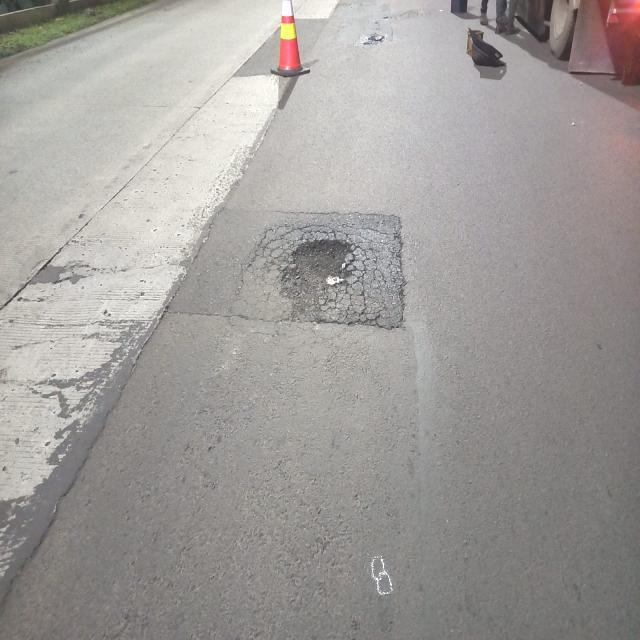Buraco: (276, 237, 358, 323), (366, 33, 386, 44)
